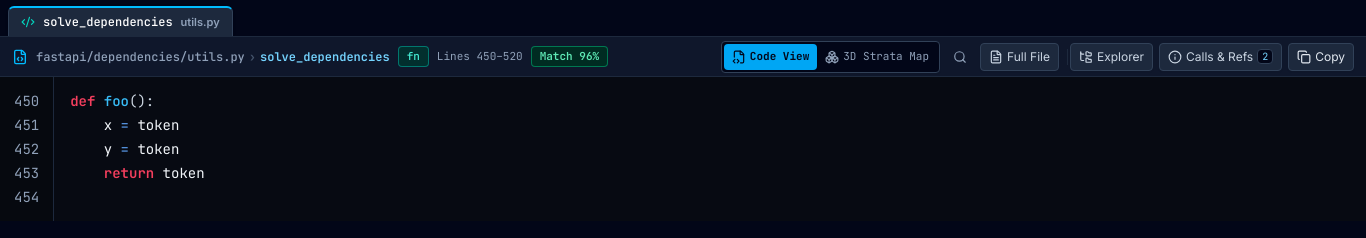
Phase 4 Everyday Developer Ergonomics Suite › steps through in-code search matches with Next/Prev buttons
Step 1. Click the button with test id "open-code-search-btn" → [960, 56], box [946,42,974,70]
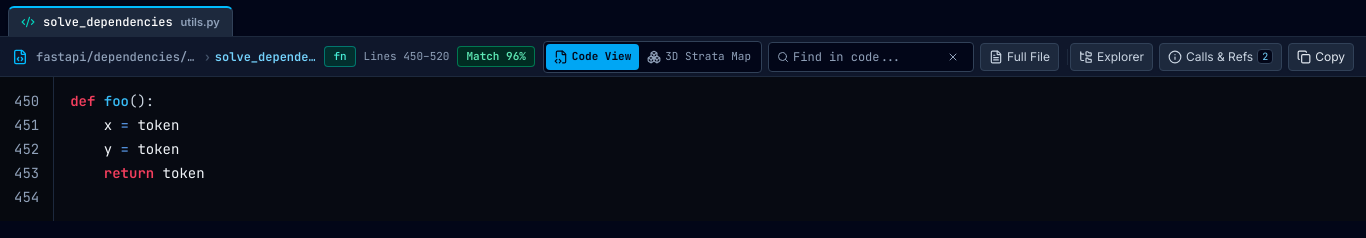
Step 2. Type "token" into the field with test id "code-search-input" → [865, 56], box [793,48,937,64]
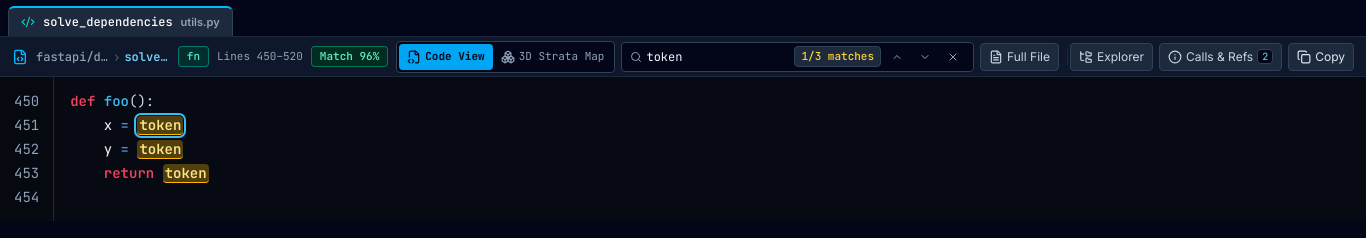
Expected: the text with test id "search-match-count" reads "1/3 matches", [802,49,874,63]
Step 3. Click the button with test id "search-next-match-btn" → [925, 56], box [913,44,937,68]
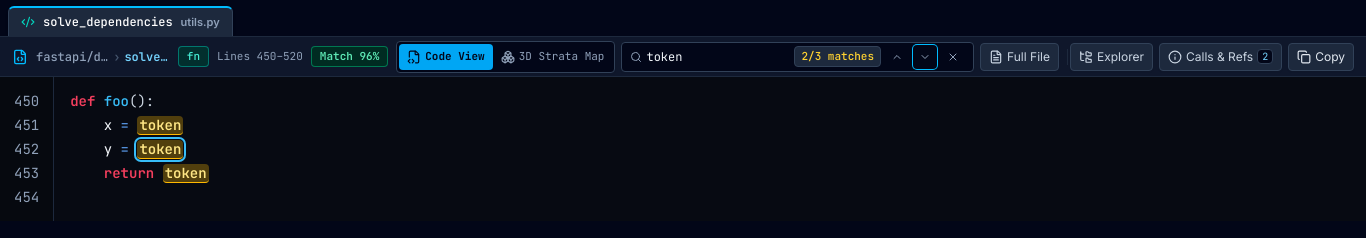
Expected: the text with test id "search-match-count" reads "2/3 matches", [802,49,874,63]
Step 4. Click the button with test id "search-prev-match-btn" → [897, 56], box [885,44,909,68]
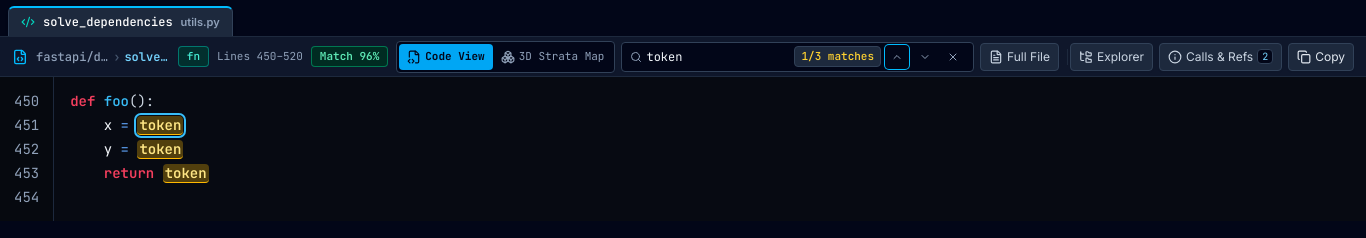
Expected: the text with test id "search-match-count" reads "1/3 matches", [802,49,874,63]
